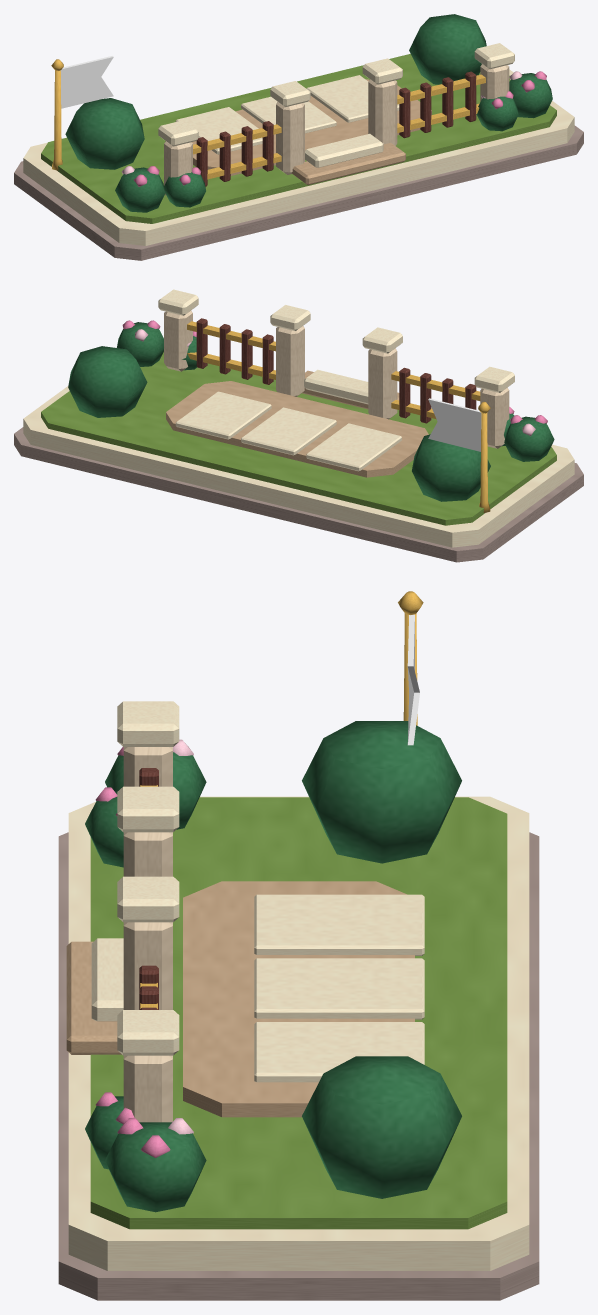
File: land.glb
3 renders of one model, top to bottom at view 1: azimuth 30°, elevation 25°; view 2: azimuth 150°, elevation 25°; view 3: azimuth 270°, elevation 25°, orthographic. The views are drawn at different scales.
Parts seen in each view (by area): view 1: arcade-land; view 2: arcade-land; view 3: arcade-land.
Boxes of the visible parts, <box> form: arcade-land: <box>14,14,583,260</box>; arcade-land: <box>14,289,583,562</box>; arcade-land: <box>58,591,539,1300</box>.
Size of the model in its own units: 1.48 by 0.406 by 0.654.
3 materials, 2 textured.
